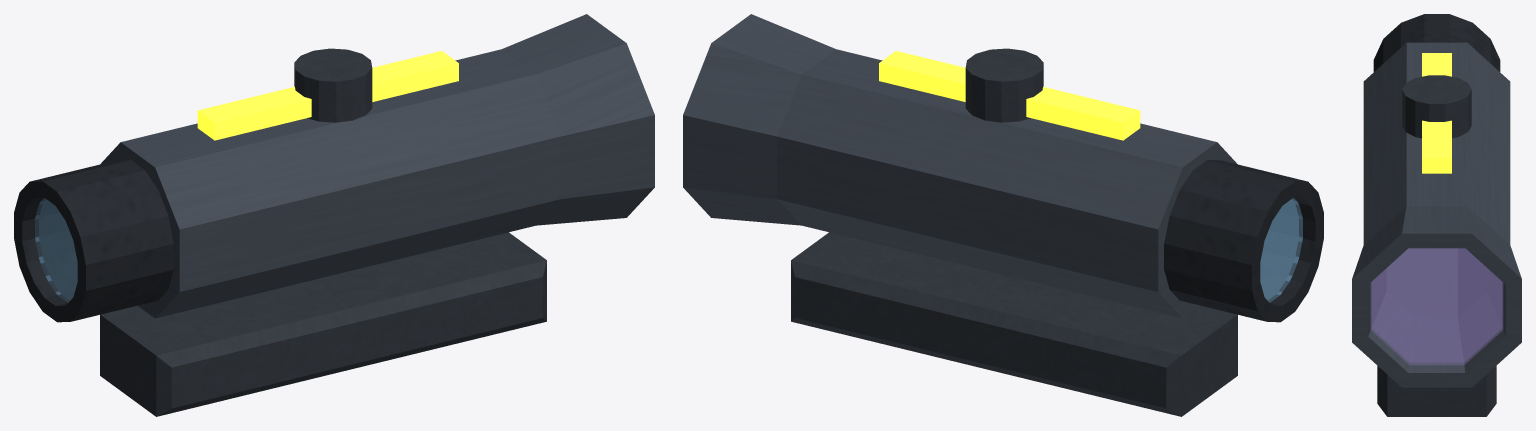
The model's file is sight_prism_v2.glb.
3 views of the same model, side by side, from view 1: azimuth 30°, elevation 25°; view 2: azimuth 150°, elevation 25°; view 3: azimuth 270°, elevation 25° (orthographic). The views are drawn at different scales.
Visible parts, largest first — view 1: sight_prism_mesh; view 2: sight_prism_mesh; view 3: sight_prism_mesh.
Part boxes in pixels (x1,y1,x2,y2): sight_prism_mesh: (14,14,654,416); sight_prism_mesh: (683,14,1323,416); sight_prism_mesh: (1352,14,1521,416).
Bounding box in the file's own units: 0.114 × 0.055 × 0.0342.
8 materials, 4 textured.
